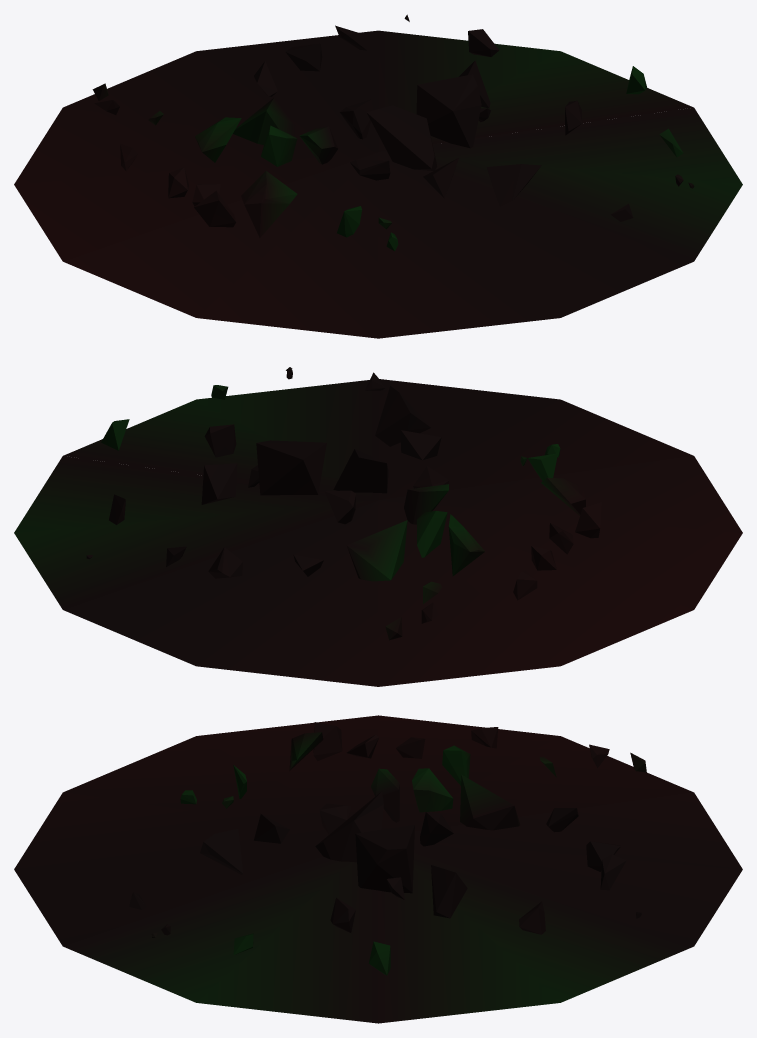
File: tf_talus_patch_12m.glb
3 renders of one model, top to bottom at view 1: azimuth 30°, elevation 25°; view 2: azimuth 150°, elevation 25°; view 3: azimuth 270°, elevation 25°, orthographic.
Parts seen in each view (by area): view 1: tf_talus_patch_12m; view 2: tf_talus_patch_12m; view 3: tf_talus_patch_12m.
Boxes of the visible parts, x1=… form: tf_talus_patch_12m: x1=14, y1=14, x2=742, y2=338; tf_talus_patch_12m: x1=14, y1=367, x2=742, y2=686; tf_talus_patch_12m: x1=14, y1=715, x2=742, y2=1023.
Size of what is drawn, in the model's own units: 13.2 by 1.47 by 13.2.
